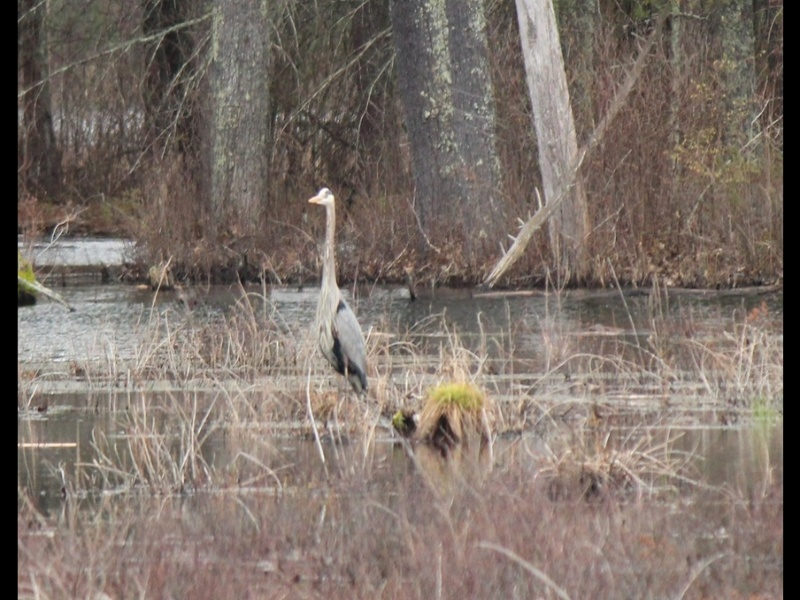heron: (306, 186, 381, 406)
